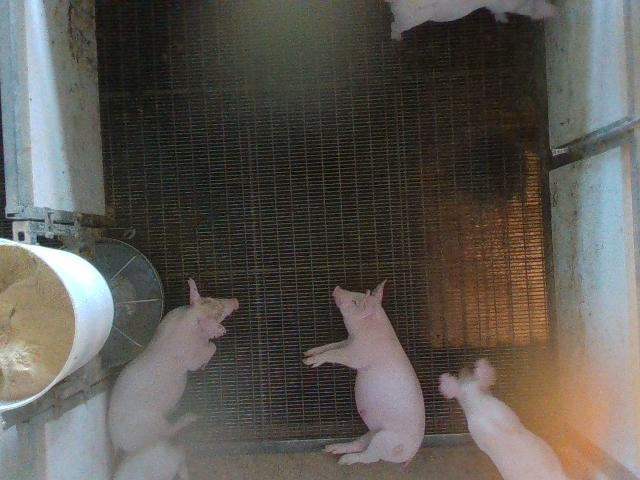pig-1: (302, 281, 425, 464)
